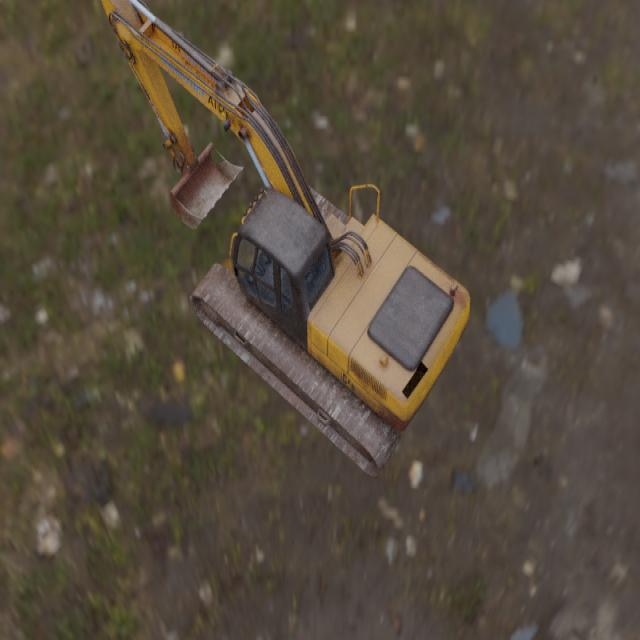excavator: (101, 0, 470, 480)
